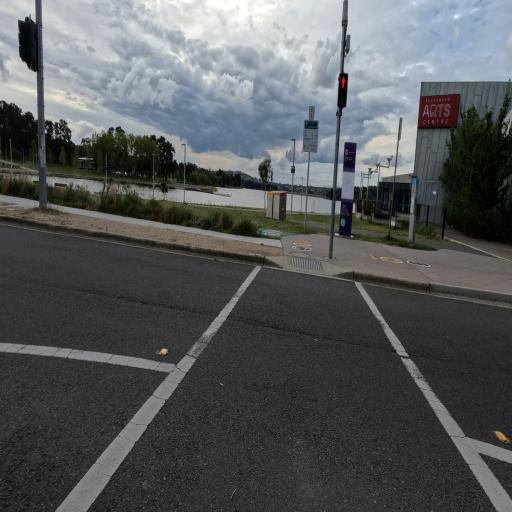kerb_cut: (267, 256, 352, 277)
